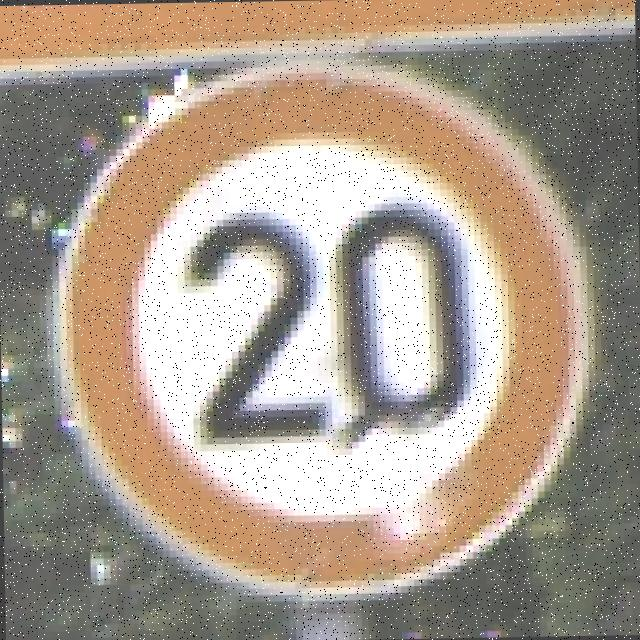Ograniczenie predkosci do 20: (53, 54, 596, 604)
